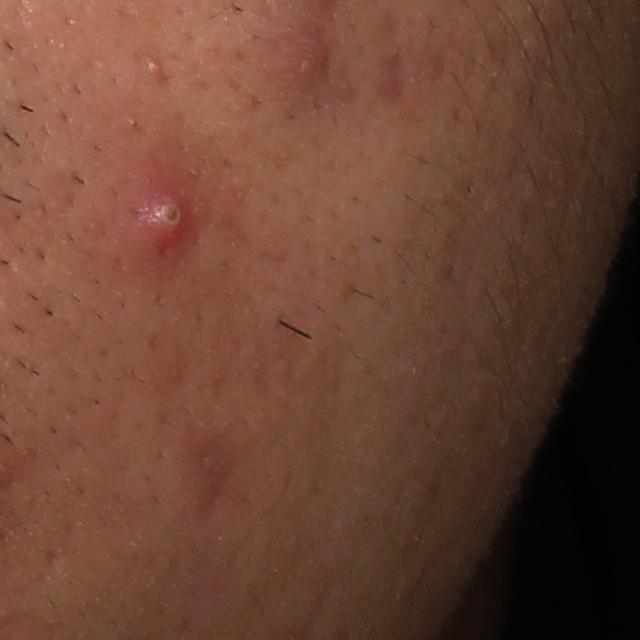atrophic_scar: (177, 417, 256, 534), (370, 52, 414, 104)
papule: (267, 23, 338, 93)
pustule: (143, 186, 200, 248)
